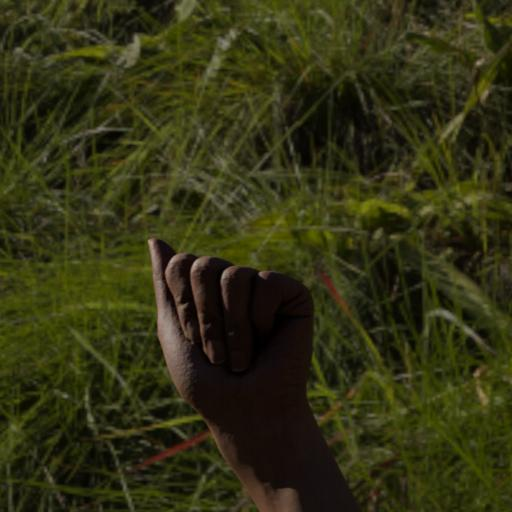A: (137, 221, 352, 445)
